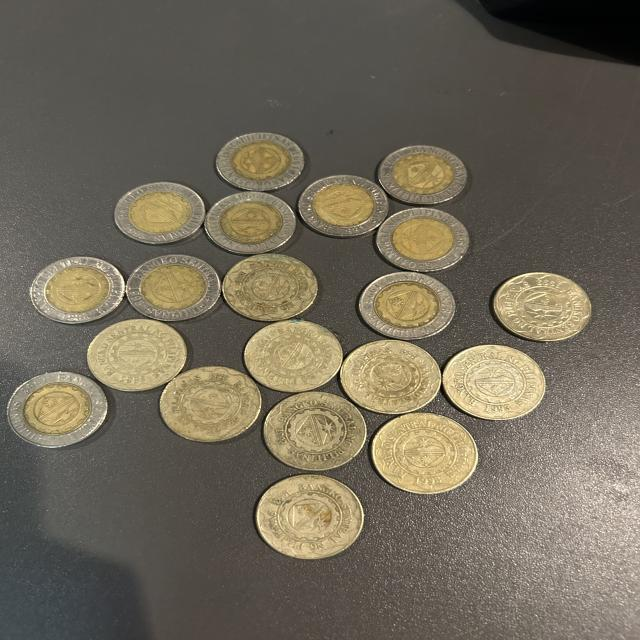10_Old_Back: (5, 371, 109, 448), (357, 268, 458, 338), (128, 255, 223, 321), (207, 194, 292, 254)
5_Old_Back: (254, 472, 364, 558), (160, 367, 262, 442), (376, 411, 472, 485)
